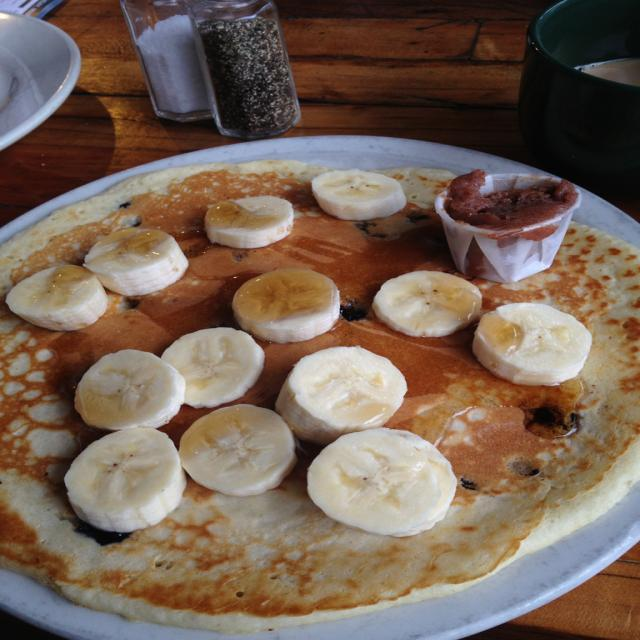Pancake: (9, 187, 593, 605)
